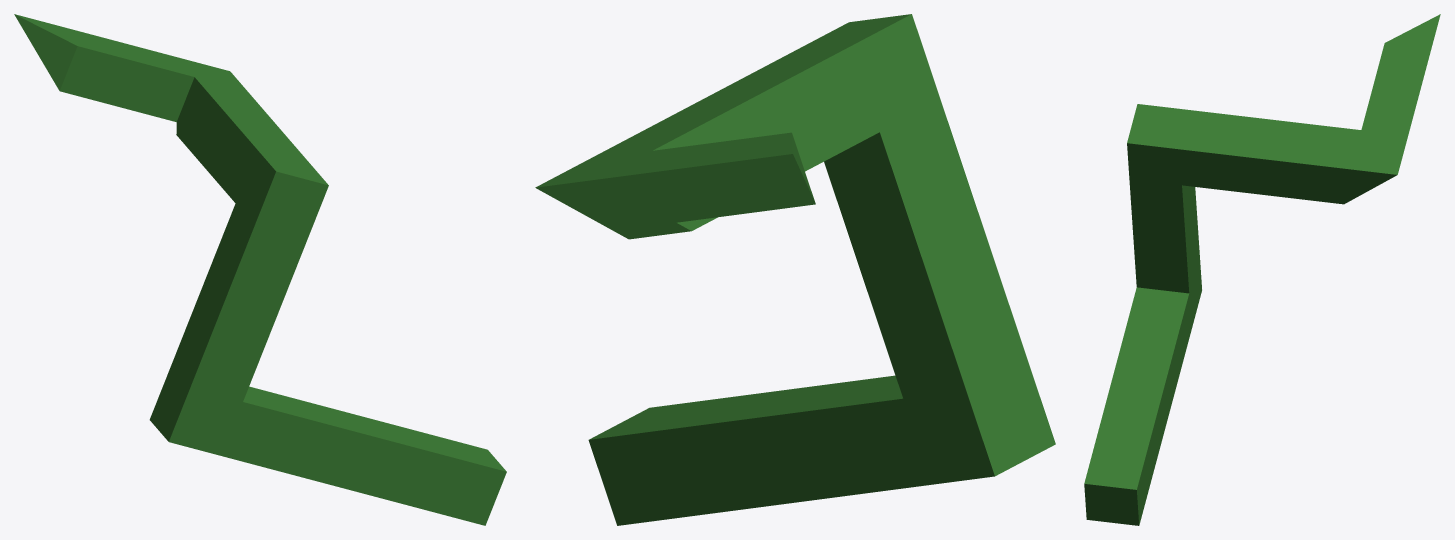
The model's file is tests_tr.glb.
3 views of the same model, side by side, from view 1: azimuth 30°, elevation 25°; view 2: azimuth 150°, elevation 25°; view 3: azimuth 270°, elevation 25° (orthographic). The views are drawn at different scales.
Visible parts, largest first — view 1: Penrose-near_bbody_0; view 2: Penrose-near_bbody_0; view 3: Penrose-near_bbody_0.
Boxes of the visible parts, bbox=[...] form: Penrose-near_bbody_0: bbox=[14, 14, 506, 525]; Penrose-near_bbody_0: bbox=[535, 14, 1055, 525]; Penrose-near_bbody_0: bbox=[1084, 14, 1440, 525].
Size of the model in its own units: 0.2593 by 0.3459 by 0.2876.
